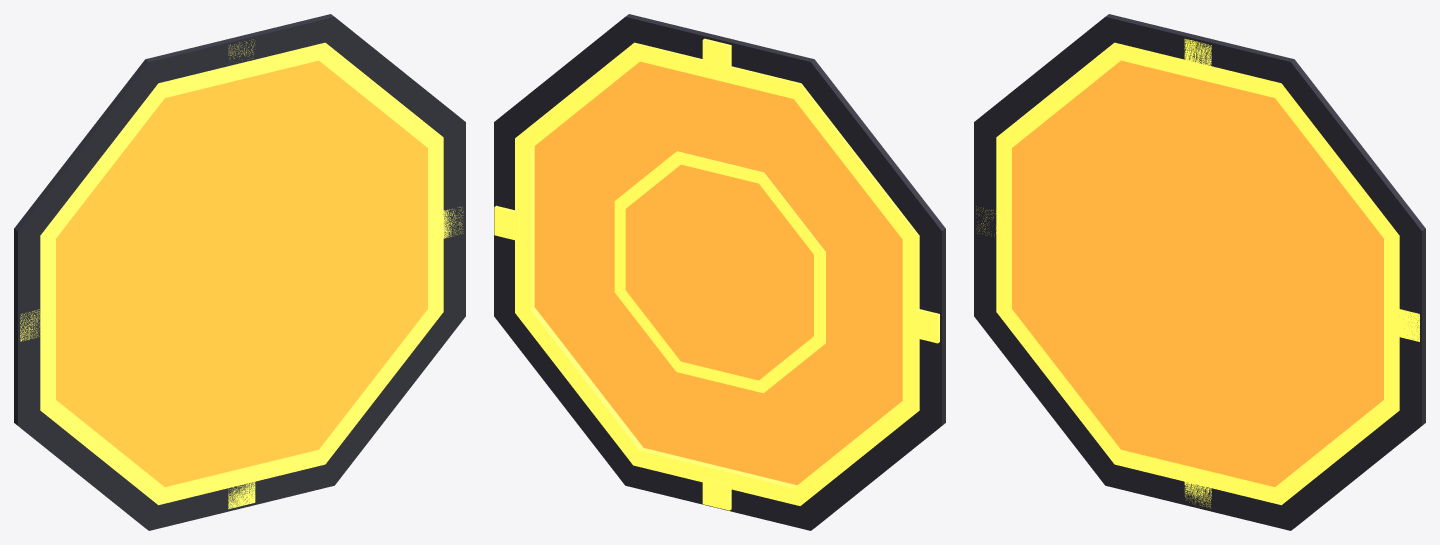
Rendered from portal_b.glb.
The picture shows the model from 3 angles, left to right: view 1: azimuth 30°, elevation 25°; view 2: azimuth 150°, elevation 25°; view 3: azimuth 330°, elevation 25°; orthographic projection.
Parts seen in each view (by area): view 1: portal_b; view 2: portal_b; view 3: portal_b.
Boxes of the visible parts, left/top/right/bottom form: portal_b: left=14, top=14, right=465, bottom=530; portal_b: left=494, top=14, right=945, bottom=530; portal_b: left=974, top=14, right=1425, bottom=530.
Size of the model in its own units: 2 by 2 by 0.045.
